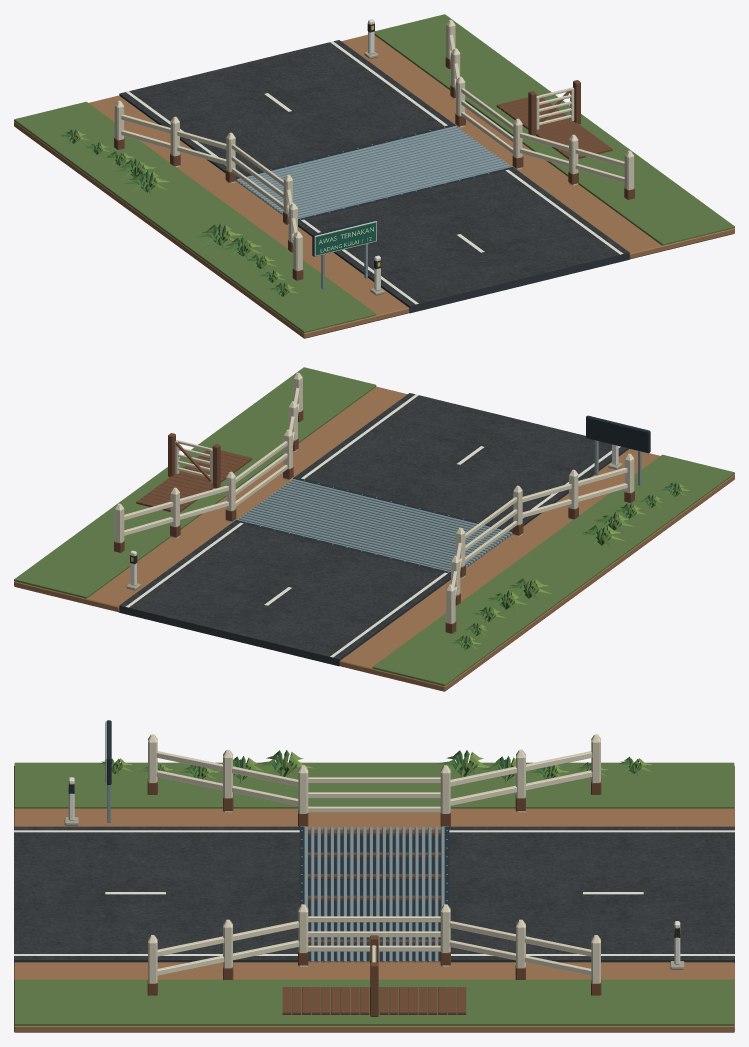
The picture shows the model from 3 angles, top to bottom: view 1: azimuth 30°, elevation 25°; view 2: azimuth 150°, elevation 25°; view 3: azimuth 270°, elevation 25°; orthographic projection. The views are drawn at different scales.
Visible parts, largest first — view 1: Tar approaches, Longitudinal verge turf, Wing verges, Steel hoof bars, Taper capped stock posts, Pandan leaf clusters, Corral rails, Wicket walk planks, Grid wing fence, Enamel nameplates, Edge paint, Tarred post feet (+3 smaller); view 2: Tar approaches, Longitudinal verge turf, Wing verges, Steel hoof bars, Taper capped stock posts, Pandan leaf clusters, Corral rails, Wicket walk planks, Grid wing fence, Edge paint, Enamel nameplates, Tarred post feet (+3 smaller); view 3: Tar approaches, Longitudinal verge turf, Wing verges, Steel hoof bars, Corral rails, Recessed drain invert, Taper capped stock posts, Grid wing fence, Wicket walk planks, Pandan leaf clusters, Edge paint, Rail bearers (+3 smaller).
Boxes of the visible parts, box(x1,y1,x2,y2) form: Tar approaches: box(119, 40, 629, 313); Longitudinal verge turf: box(14, 14, 734, 333); Wing verges: box(14, 34, 734, 338); Steel hoof bars: box(236, 126, 511, 218); Taper capped stock posts: box(114, 20, 634, 270); Pandan leaf clusters: box(58, 129, 298, 298); Corral rails: box(121, 34, 624, 245); Wicket walk planks: box(496, 94, 612, 159); Grid wing fence: box(231, 88, 513, 209); Enamel nameplates: box(312, 219, 376, 256); Edge paint: box(126, 41, 623, 304); Tarred post feet: box(114, 57, 634, 280); Tar approaches: box(119, 393, 629, 666); Longitudinal verge turf: box(14, 367, 734, 686); Wing verges: box(14, 386, 734, 691); Steel hoof bars: box(237, 479, 512, 571); Taper capped stock posts: box(114, 373, 634, 623); Pandan leaf clusters: box(451, 482, 690, 651); Corral rails: box(124, 387, 627, 598); Wicket walk planks: box(136, 447, 252, 512); Grid wing fence: box(235, 441, 517, 562); Edge paint: box(125, 394, 620, 657); Enamel nameplates: box(586, 415, 650, 453); Tarred post feet: box(114, 410, 634, 633); Tar approaches: box(14, 826, 734, 962); Longitudinal verge turf: box(14, 762, 734, 1025); Wing verges: box(14, 766, 734, 1032); Steel hoof bars: box(304, 827, 444, 962); Corral rails: box(156, 751, 592, 975); Recessed drain invert: box(308, 836, 440, 960); Taper capped stock posts: box(148, 734, 600, 983); Grid wing fence: box(308, 777, 440, 951); Wicket walk planks: box(282, 987, 466, 1014); Pandan leaf clusters: box(99, 750, 651, 784); Edge paint: box(14, 830, 734, 955); Rail bearers: box(308, 830, 440, 962).
Size of the model in its own units: 13.72 by 1.97 by 16.
Materials: 17 (1 with a texture image).
